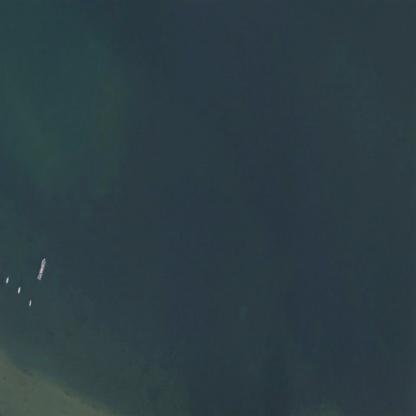ship: (34, 250, 50, 284), (14, 282, 24, 296), (0, 273, 10, 285), (26, 294, 32, 309)
